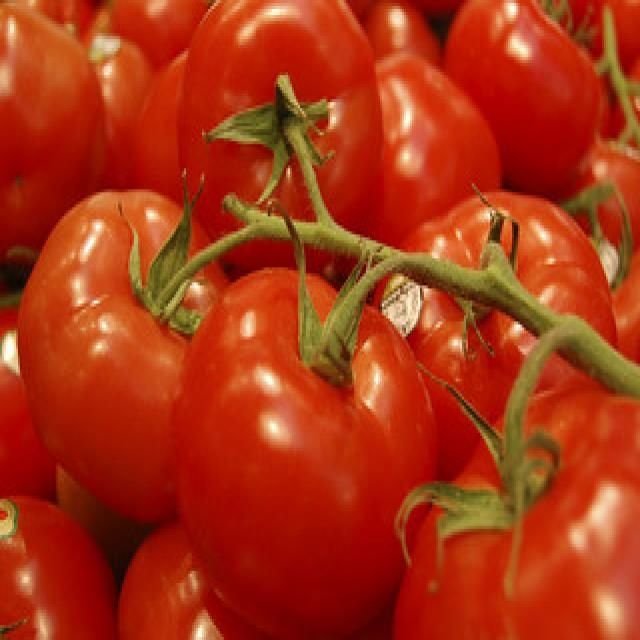Tomato: (168, 260, 442, 634), (366, 183, 620, 480), (14, 183, 232, 525), (172, 2, 388, 268)
